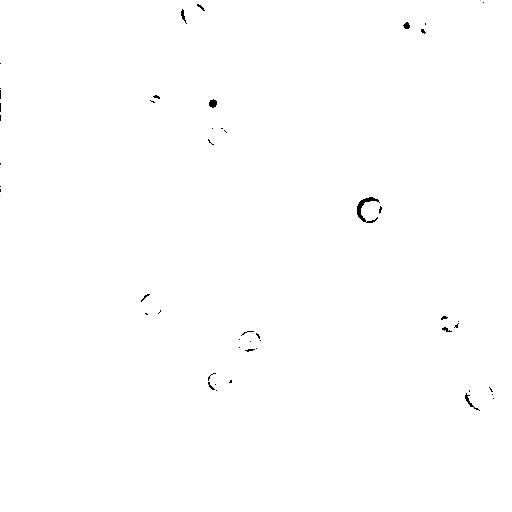micro-algae: (312, 105, 401, 195), (51, 402, 113, 463), (483, 290, 512, 347), (87, 364, 120, 403), (220, 56, 254, 93), (463, 376, 495, 412), (196, 84, 229, 117), (390, 12, 421, 39), (416, 9, 447, 34), (315, 492, 355, 511), (0, 89, 21, 123), (356, 195, 382, 222), (138, 288, 164, 315), (181, 1, 206, 29), (205, 369, 234, 393), (235, 329, 263, 353), (205, 123, 230, 149), (433, 310, 460, 333), (315, 45, 337, 67), (232, 0, 273, 10), (478, 0, 505, 8), (166, 1, 191, 7)
